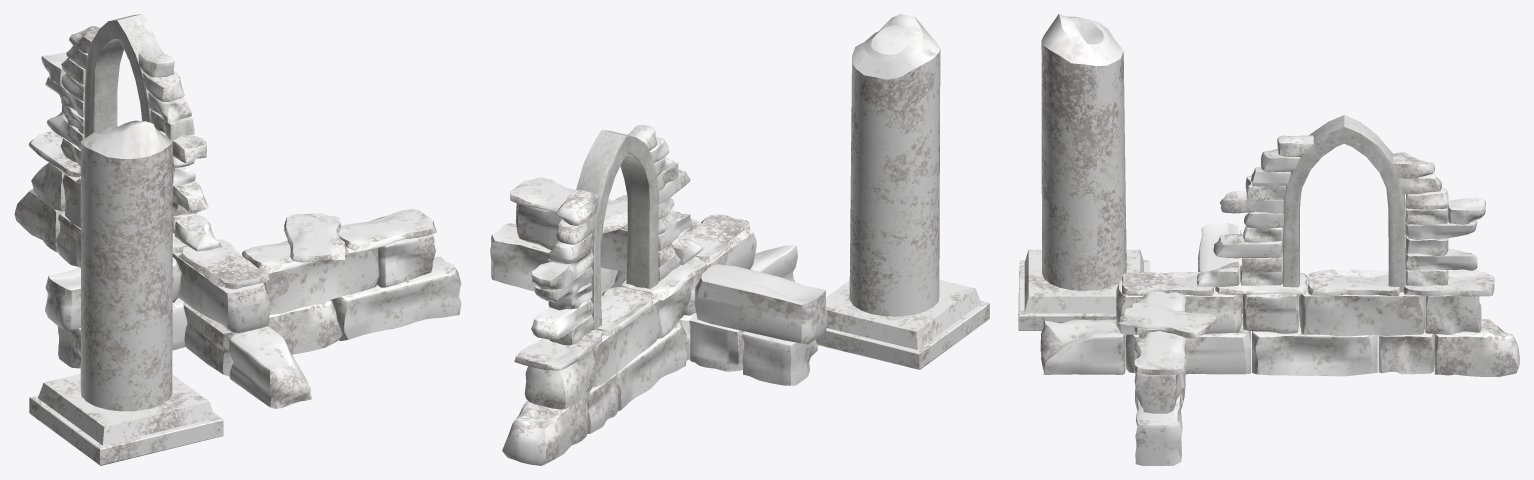
File: Ruin_1.fbx
The picture shows the model from 3 angles, left to right: view 1: azimuth 30°, elevation 25°; view 2: azimuth 150°, elevation 25°; view 3: azimuth 270°, elevation 25°; orthographic projection. The views are drawn at different scales.
Visible parts, largest first — view 1: pCylinder2, pCube48, pCube11, pCube49, pCube10, pCube18, pCube47, pCube53, pCube51, pCube36, pCube52, pCube46 (+21 smaller); view 2: pCylinder2, pCube46, pCube54, pCube4, pCube18, pCube45, pCube48, pCube3, pCube7, pCube6, pCube44, pCube36 (+21 smaller); view 3: pCylinder2, pCube3, pCube6, pCube11, pCube4, pCube18, pCube54, pCube9, pCube48, pCube10, pCube5, pCube53 (+30 smaller).
Part boxes in pixels (x1,y1,x2,y2): pCylinder2: [29, 120, 223, 465]; pCube48: [330, 256, 461, 340]; pCube11: [228, 326, 311, 408]; pCube49: [263, 247, 379, 314]; pCube10: [172, 252, 270, 333]; pCube18: [84, 14, 140, 138]; pCube47: [266, 300, 342, 354]; pCube53: [284, 213, 345, 262]; pCube51: [339, 209, 436, 251]; pCube36: [178, 239, 269, 289]; pCube52: [377, 234, 435, 287]; pCube46: [45, 257, 181, 330]; pCylinder2: [815, 14, 989, 369]; pCube46: [694, 264, 827, 344]; pCube54: [603, 130, 658, 288]; pCube4: [502, 396, 588, 465]; pCube18: [576, 130, 629, 330]; pCube45: [742, 331, 817, 385]; pCube48: [490, 223, 618, 296]; pCube3: [616, 322, 686, 411]; pCube7: [524, 349, 595, 409]; pCube6: [592, 298, 660, 387]; pCube44: [689, 314, 744, 371]; pCube36: [678, 214, 749, 262]; pCylinder2: [1018, 14, 1150, 330]; pCube3: [1252, 319, 1377, 376]; pCube6: [1299, 277, 1424, 336]; pCube11: [1040, 319, 1125, 374]; pCube4: [1434, 319, 1519, 376]; pCube18: [1339, 115, 1405, 292]; pCube54: [1282, 115, 1344, 295]; pCube9: [1125, 320, 1251, 374]; pCube48: [1135, 389, 1182, 465]; pCube10: [1116, 280, 1241, 334]; pCube5: [1378, 319, 1434, 374]; pCube53: [1118, 302, 1216, 338].
Bounding box in the file's own units: 8.53 × 5.97 × 9.45.
